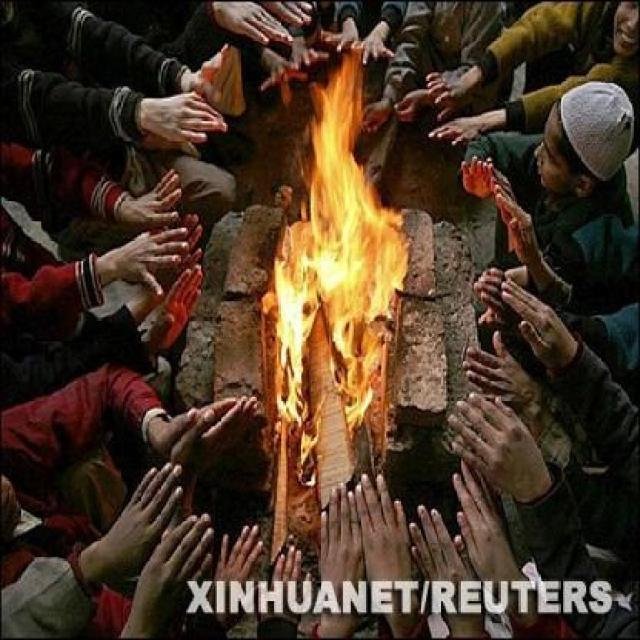Fire: (276, 48, 408, 476)
